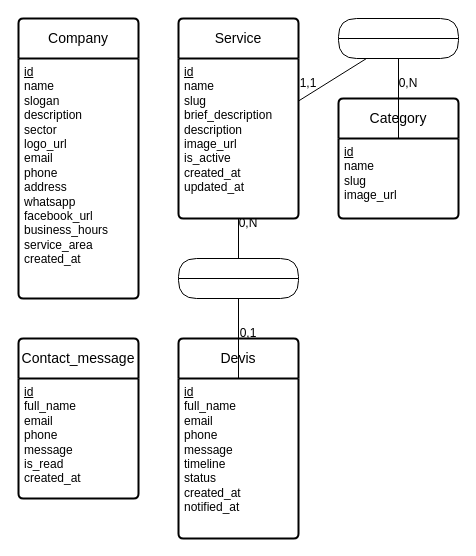
This 476x556 diagram has some shape labels left out. The shapes that lost their labels are listed below. From the top down, each one's centre as x and y in pixels, then its label:
At (398,38): "Belong".
At (238,278): "Lier".
